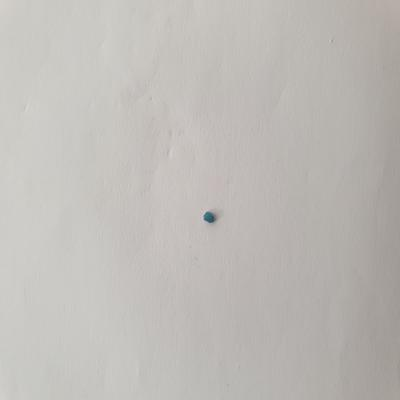plastic: (200, 209, 220, 227)
